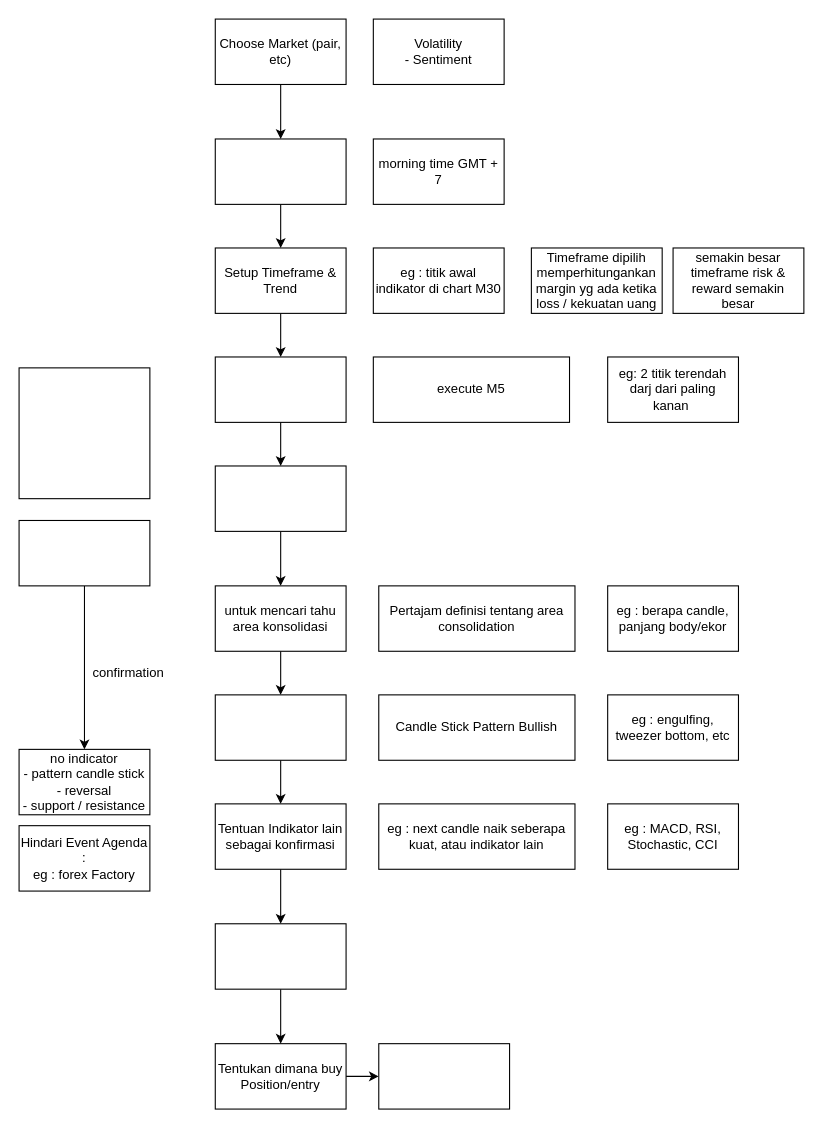
The diagram is 823 pixels wide and 1128 high, and some of its shapes have lost their labels. The shapes that lost their labels are listed below. From the top down, each one's centre as x and y in pixels, then its label:
the point at 280,171: Define Timing to Open Position
the point at 280,389: Define Area demand
the point at 84,433: ambil kepastian ; lagging indicator ambil kesempatan : leading
the point at 280,498: Pindah ke Timeframe M5
the point at 84,552: indicator - chose leading / lagging
the point at 280,727: Tentukan Indikator Awal Buy
the point at 280,956: konfirmasi pattern candle stick
the point at 444,1076: Order Management - execute
